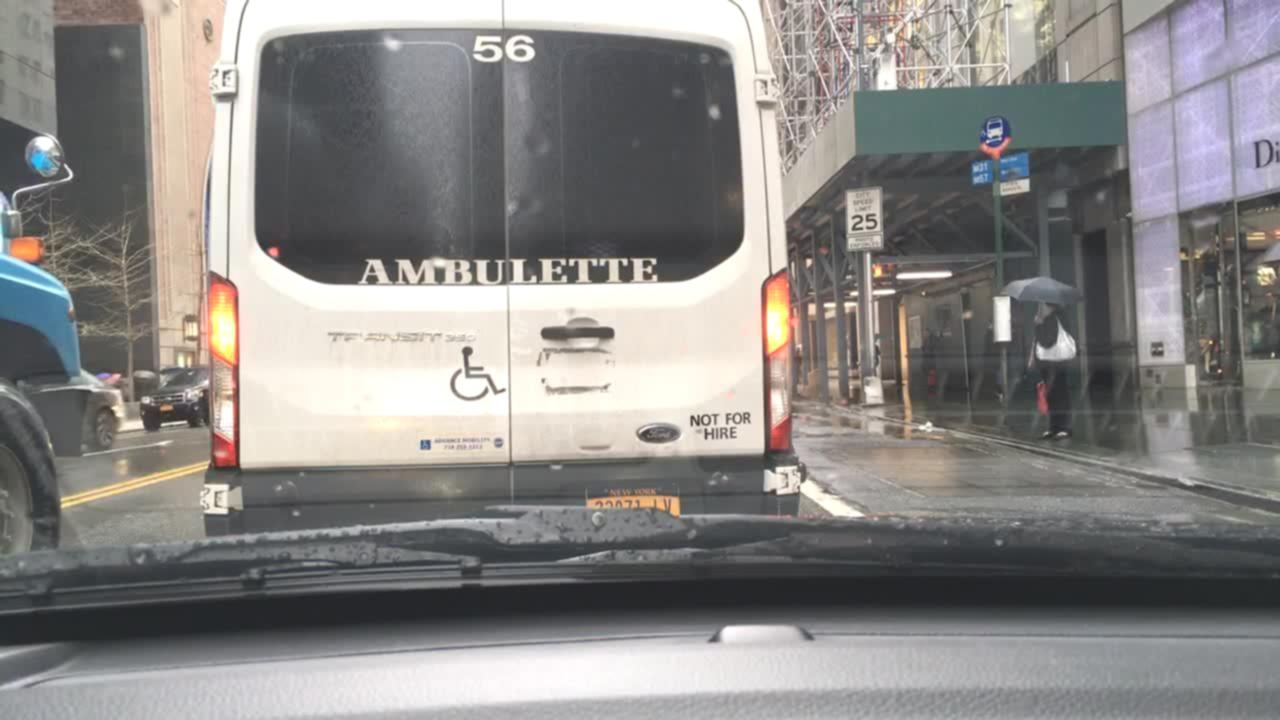ford: (635, 418, 685, 449)
